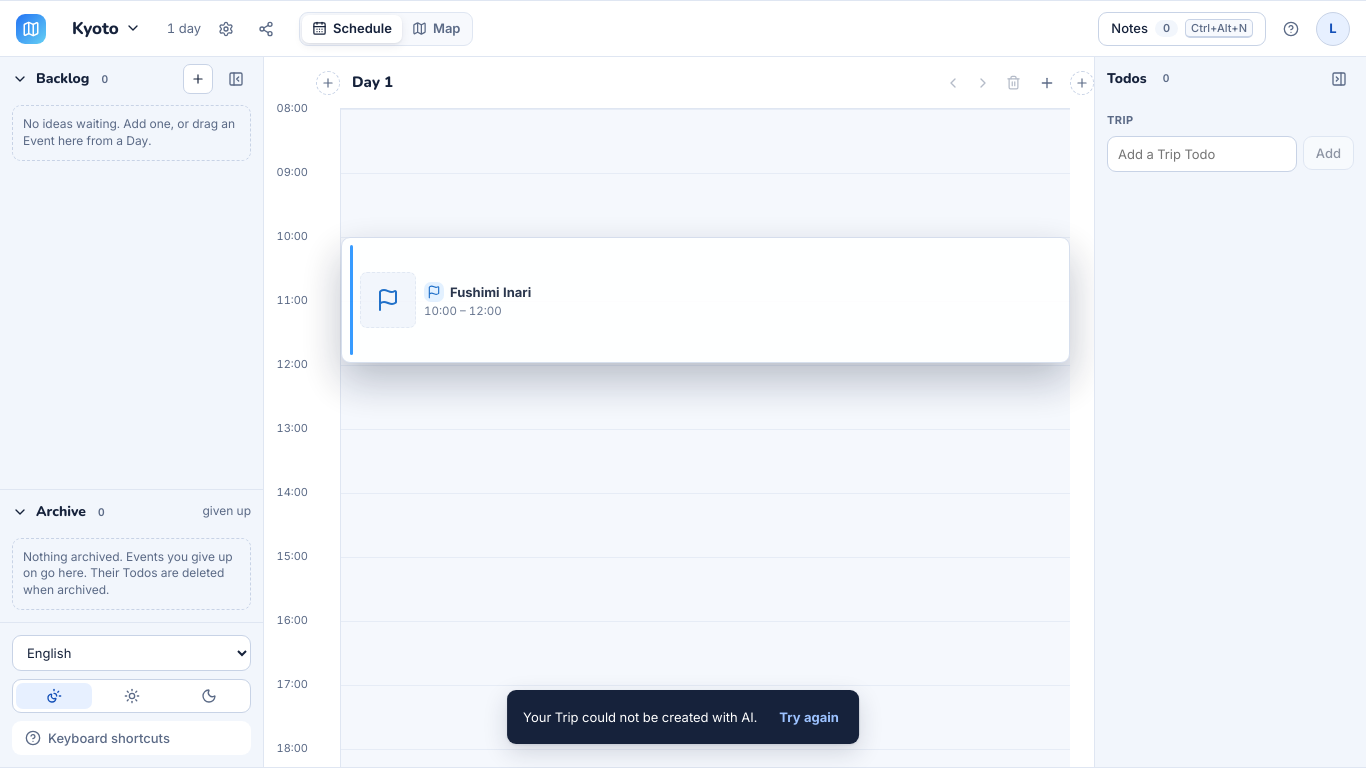
Scenario: an AI generation that finishes while the dialog is closed › offers to try again with the same dialog when it failed
The width and height of the screenshot is (1366, 768).
Expected: the text "Fushimi Inari" is shown, 450,284 -> 531,300
Expected: the text "Your Trip could not be created with AI." is shown, 523,708 -> 757,726
Click the button "Try again" at (809, 717), box 771,700 -> 847,734
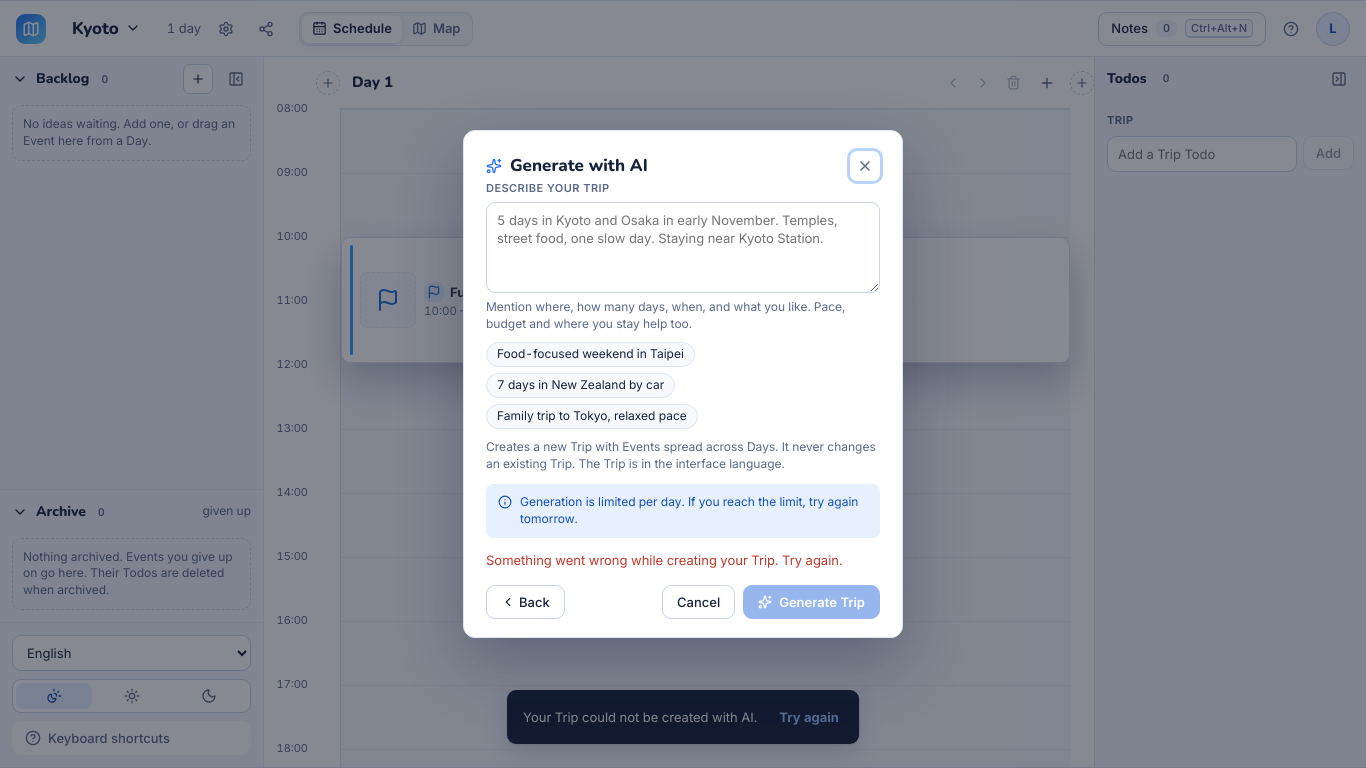
Now the heading "Generate with AI" is shown, box 510,154 -> 648,177
